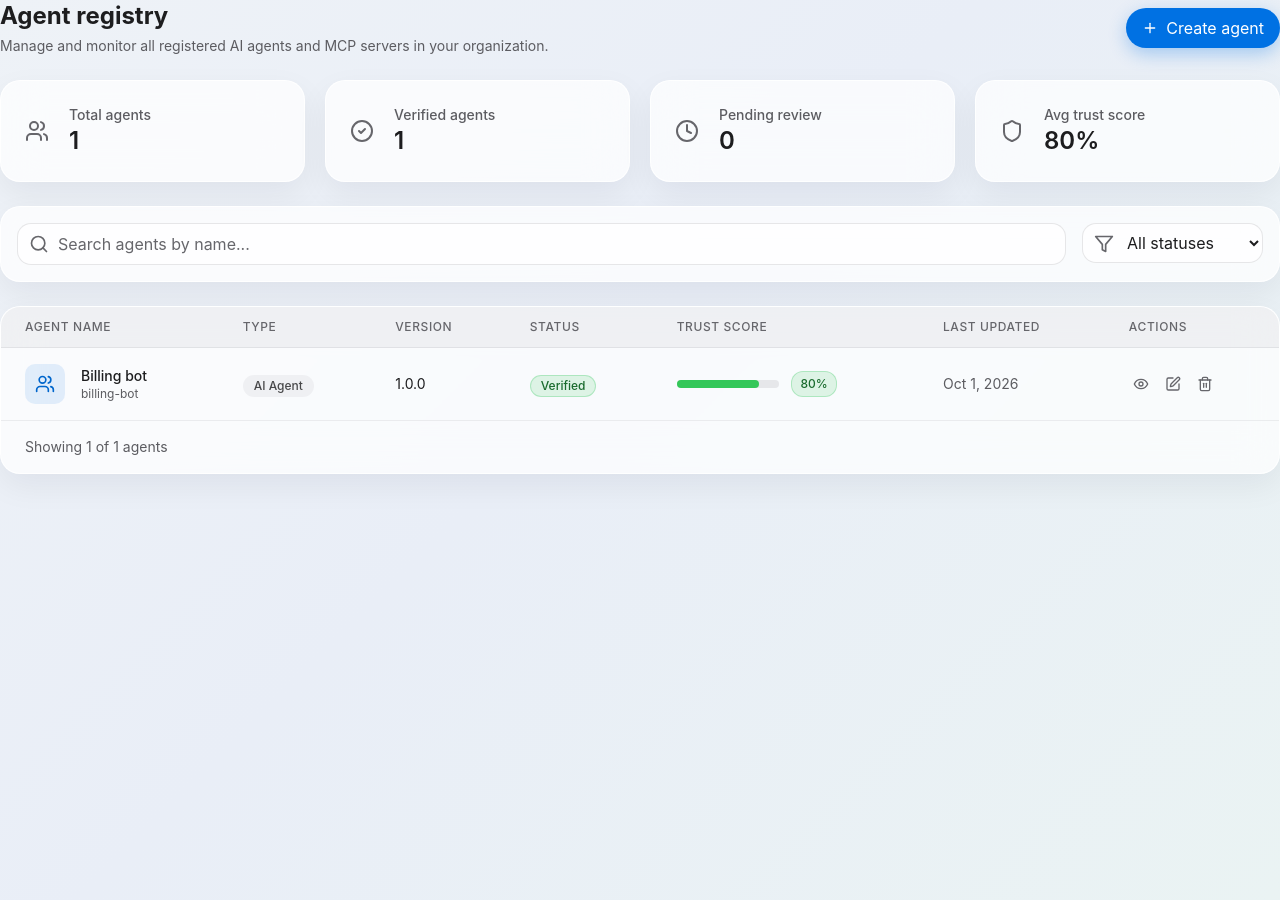
Test: agents list: delete › keeps the dialog open with the reason when the delete fails, and keeps the agent
Click the button titled "Delete agent": [1205, 384] box [1193, 372, 1217, 396]
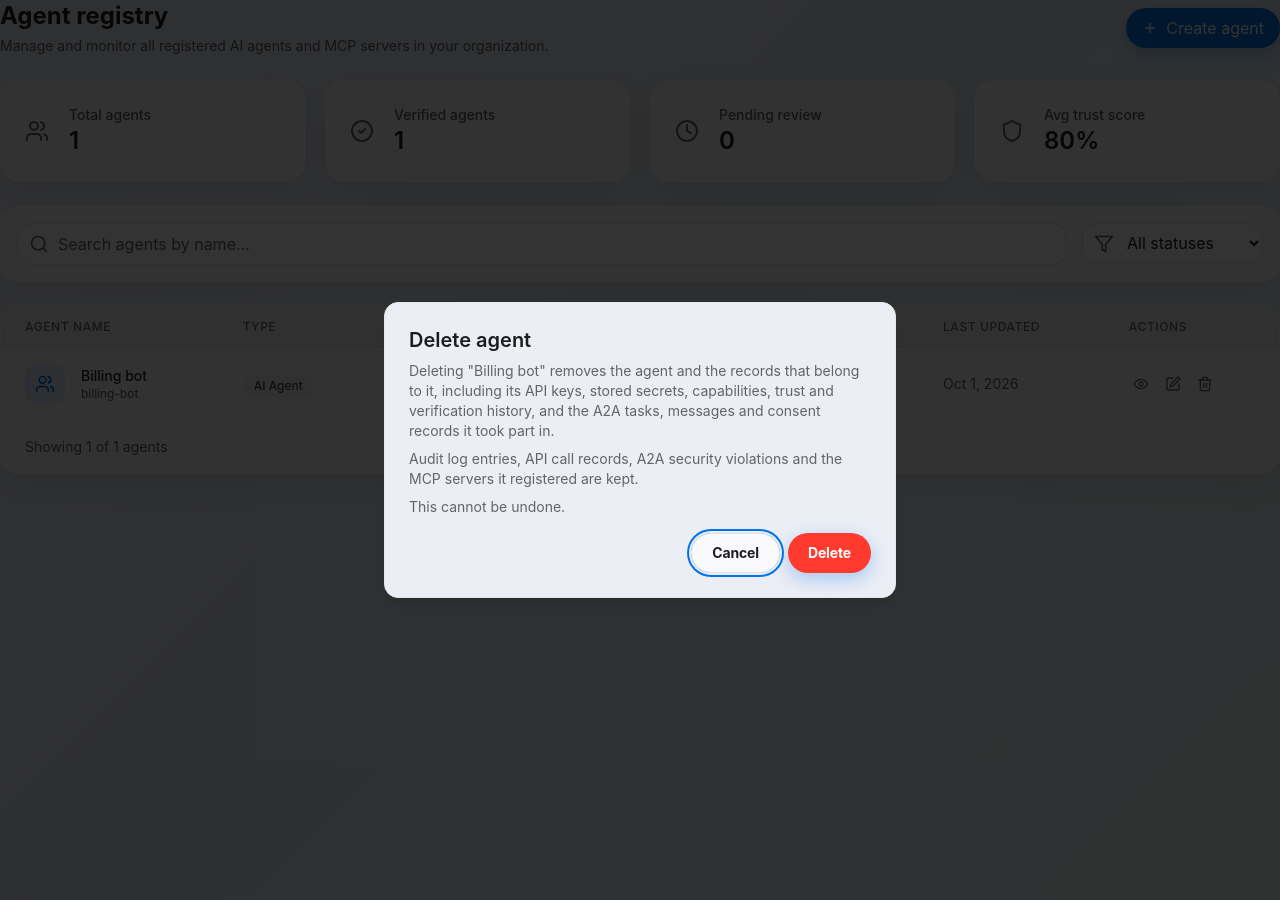
Click the button "Delete": [829, 553] box [788, 533, 871, 573]
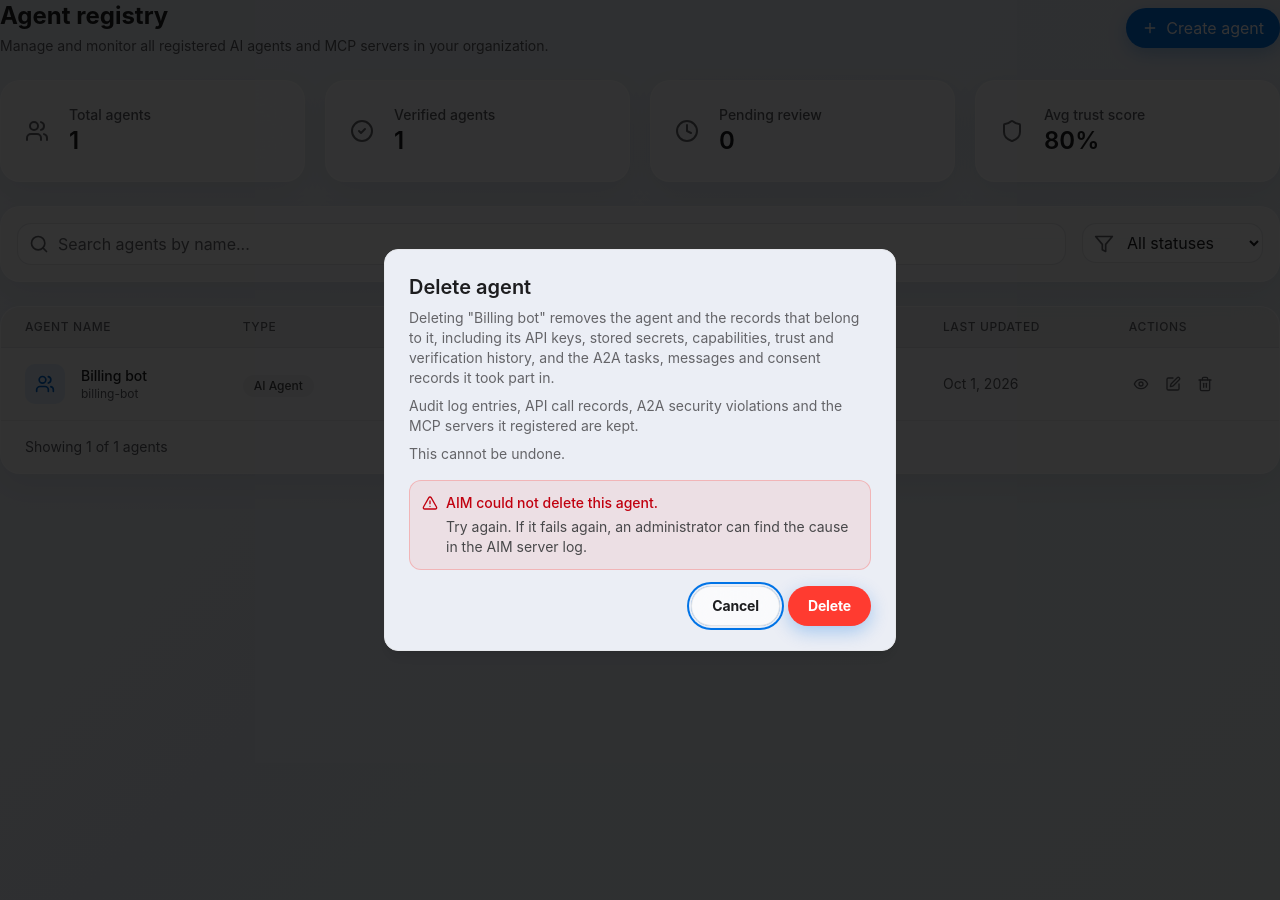
Expected: the button titled "Delete agent" is shown, [1193, 372, 1217, 396]
Expected: the message shows "AIM could not delete this agent.", [446, 494, 658, 511]
